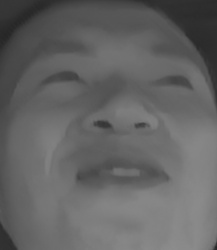eye: (149, 65, 196, 95), (37, 65, 85, 93)
mouth: (61, 146, 175, 197)
